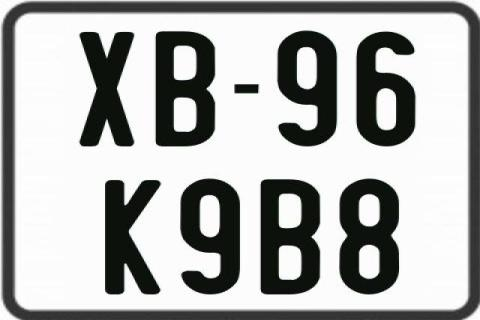0: (353, 32, 418, 149), (278, 30, 341, 150), (339, 178, 400, 296), (177, 178, 237, 294)
B: (260, 177, 325, 292), (156, 29, 220, 144)
K: (104, 180, 161, 298)
X: (77, 31, 137, 148)
